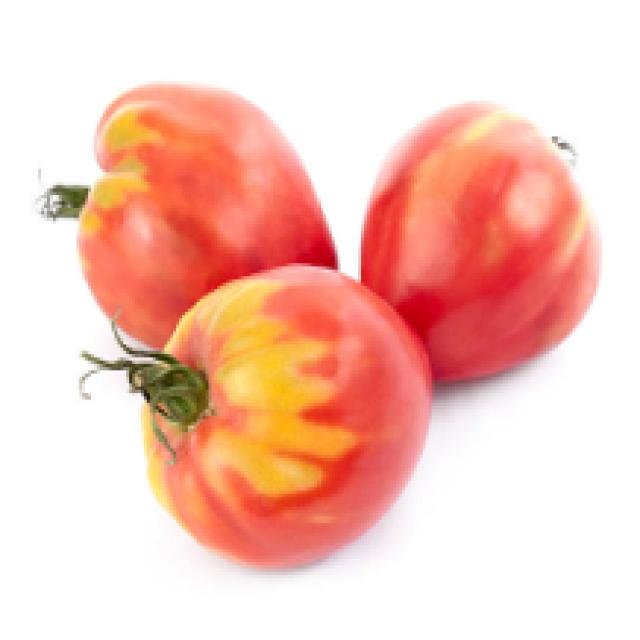Tomato: (91, 270, 441, 570)
